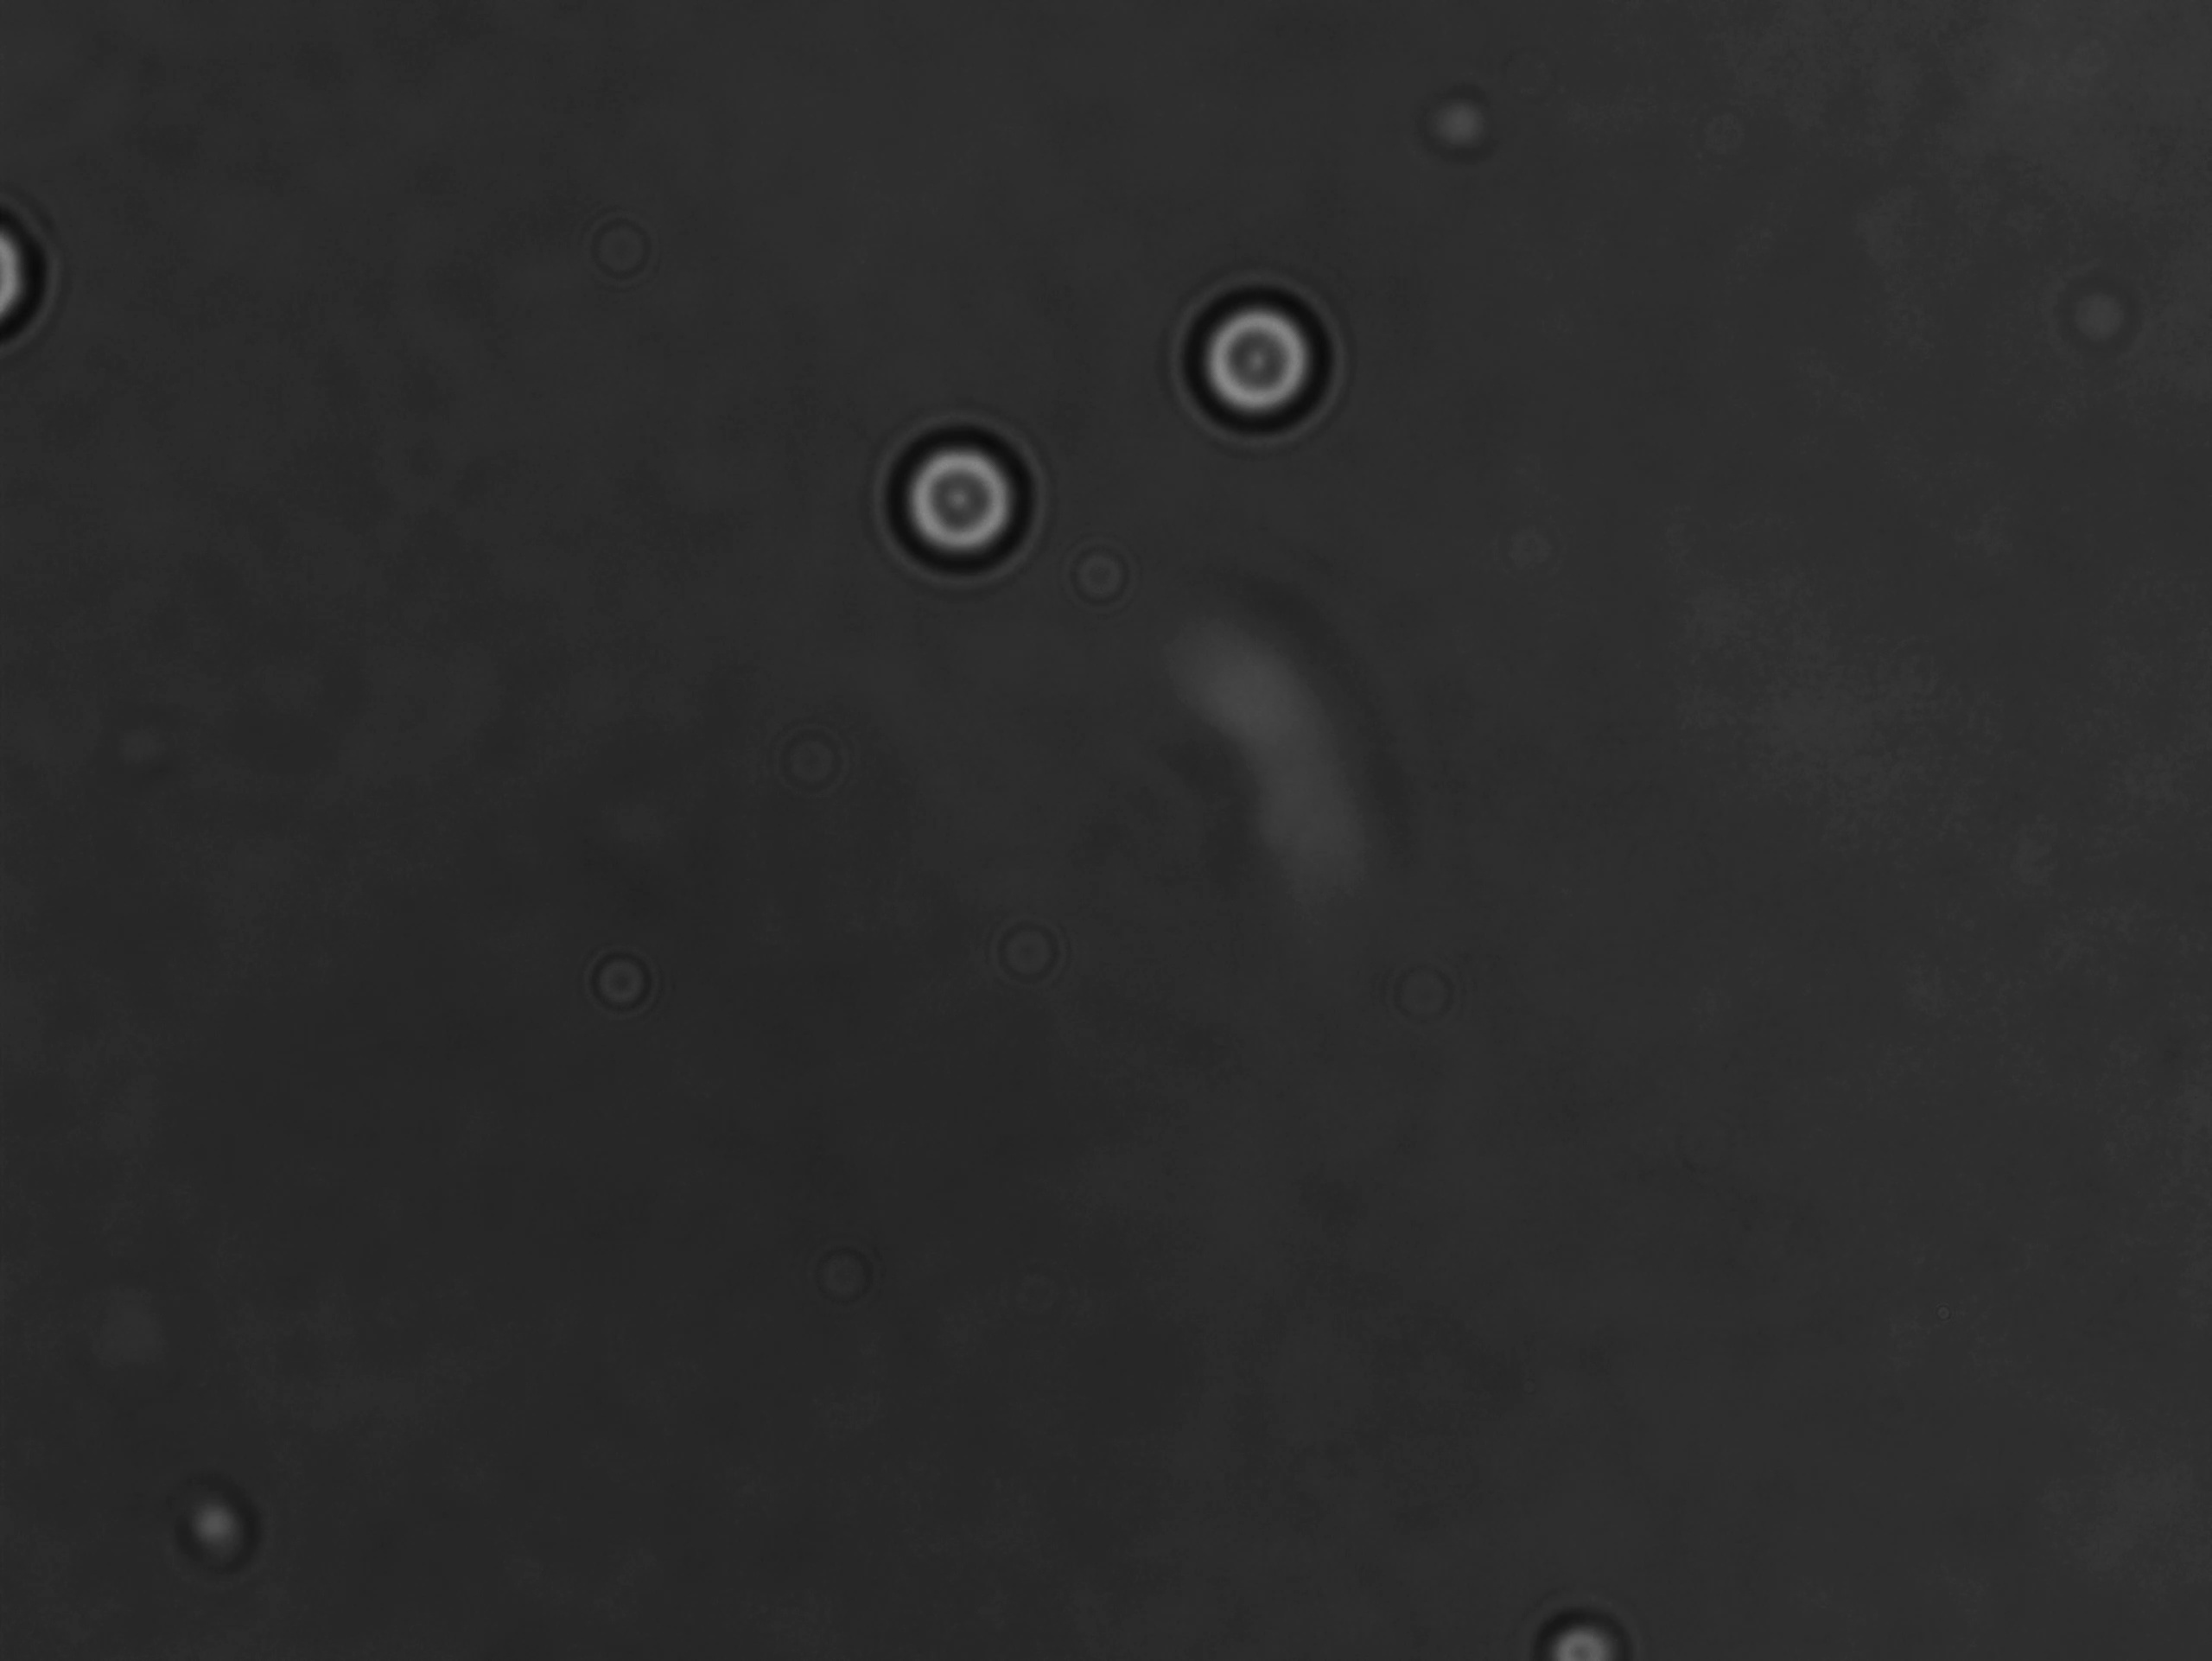depth:40: (1171, 265, 1361, 441), (870, 419, 1054, 588)
